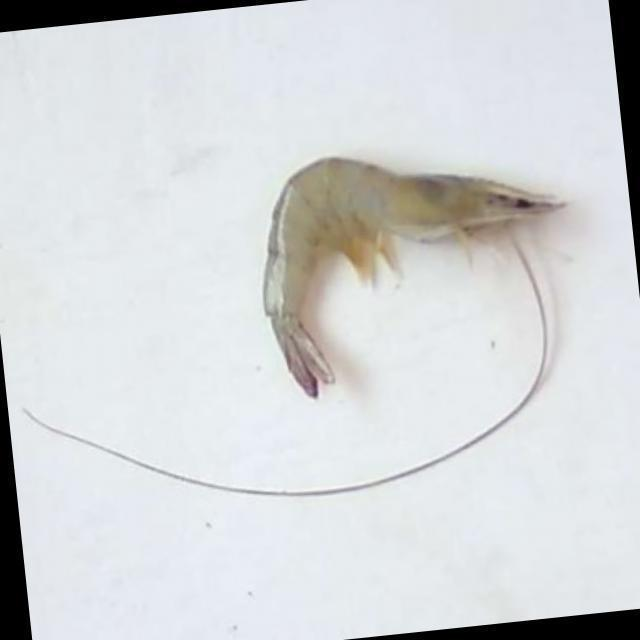shrimp: (263, 157, 559, 397)
